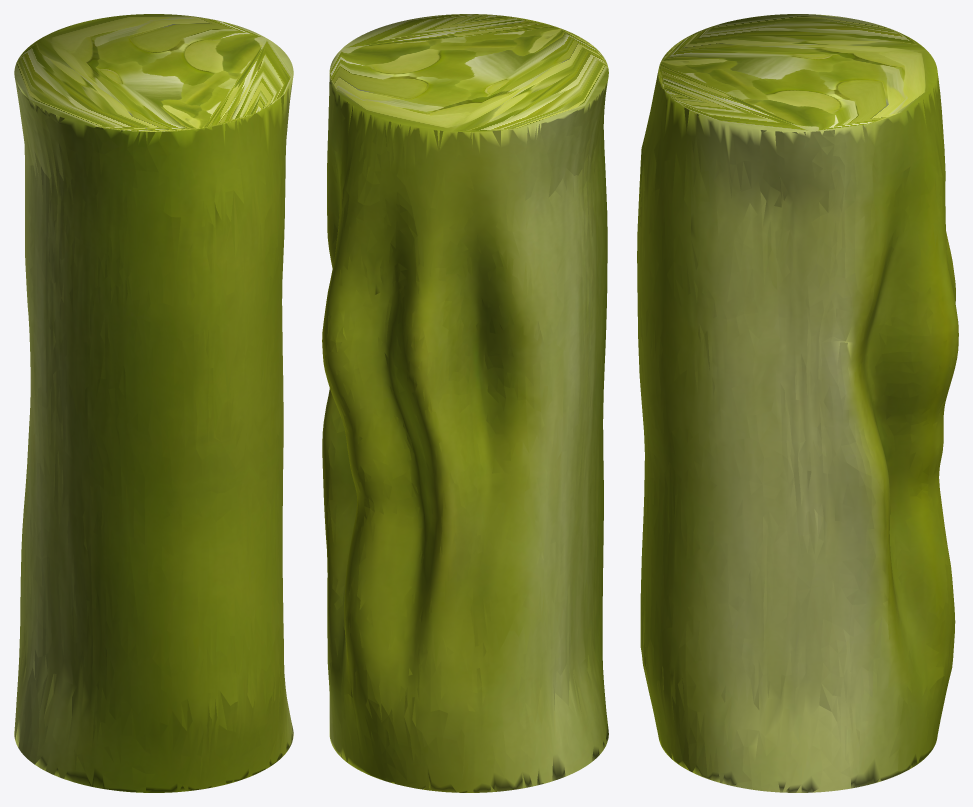
The model's file is stem-a.glb.
3 renders of one model, left to right at view 1: azimuth 30°, elevation 25°; view 2: azimuth 150°, elevation 25°; view 3: azimuth 270°, elevation 25°, orthographic.
Visible parts, largest first — view 1: CliviaStem_A; view 2: CliviaStem_A; view 3: CliviaStem_A.
Part boxes in pixels (<box>): CliviaStem_A: <box>14,14,293,792</box>; CliviaStem_A: <box>322,14,608,792</box>; CliviaStem_A: <box>637,14,958,792</box>.
Bounding box in the file's own units: 0.0459 × 0.12 × 0.053.
1 material, 1 textured.
